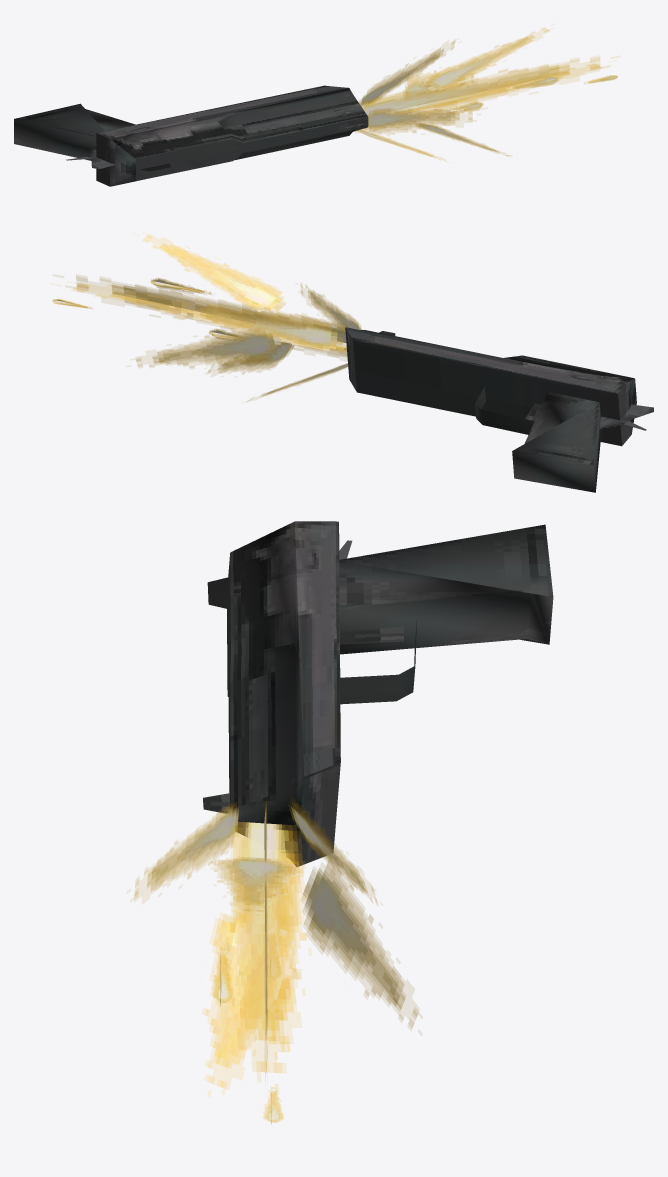
Rendered from deagle.glb.
The picture shows the model from 3 angles, top to bottom: view 1: azimuth 30°, elevation 25°; view 2: azimuth 150°, elevation 25°; view 3: azimuth 270°, elevation 25°; orthographic projection. The views are drawn at different scales.
Parts seen in each view (by area): view 1: desert_eagle, gunflash; view 2: desert_eagle, gunflash; view 3: desert_eagle, gunflash.
Part boxes in pixels (x1,y1,x2,y2): desert_eagle: [14, 85, 368, 186]; gunflash: [355, 28, 617, 161]; desert_eagle: [345, 327, 653, 492]; gunflash: [52, 235, 361, 401]; desert_eagle: [203, 521, 553, 866]; gunflash: [134, 799, 418, 1123].
Size of the model in its own units: 0.7028 by 0.1576 by 0.2389.
Materials: 2 (2 with a texture image).
